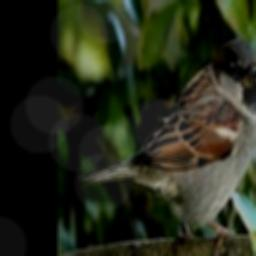Sparrow: (78, 36, 256, 256)
